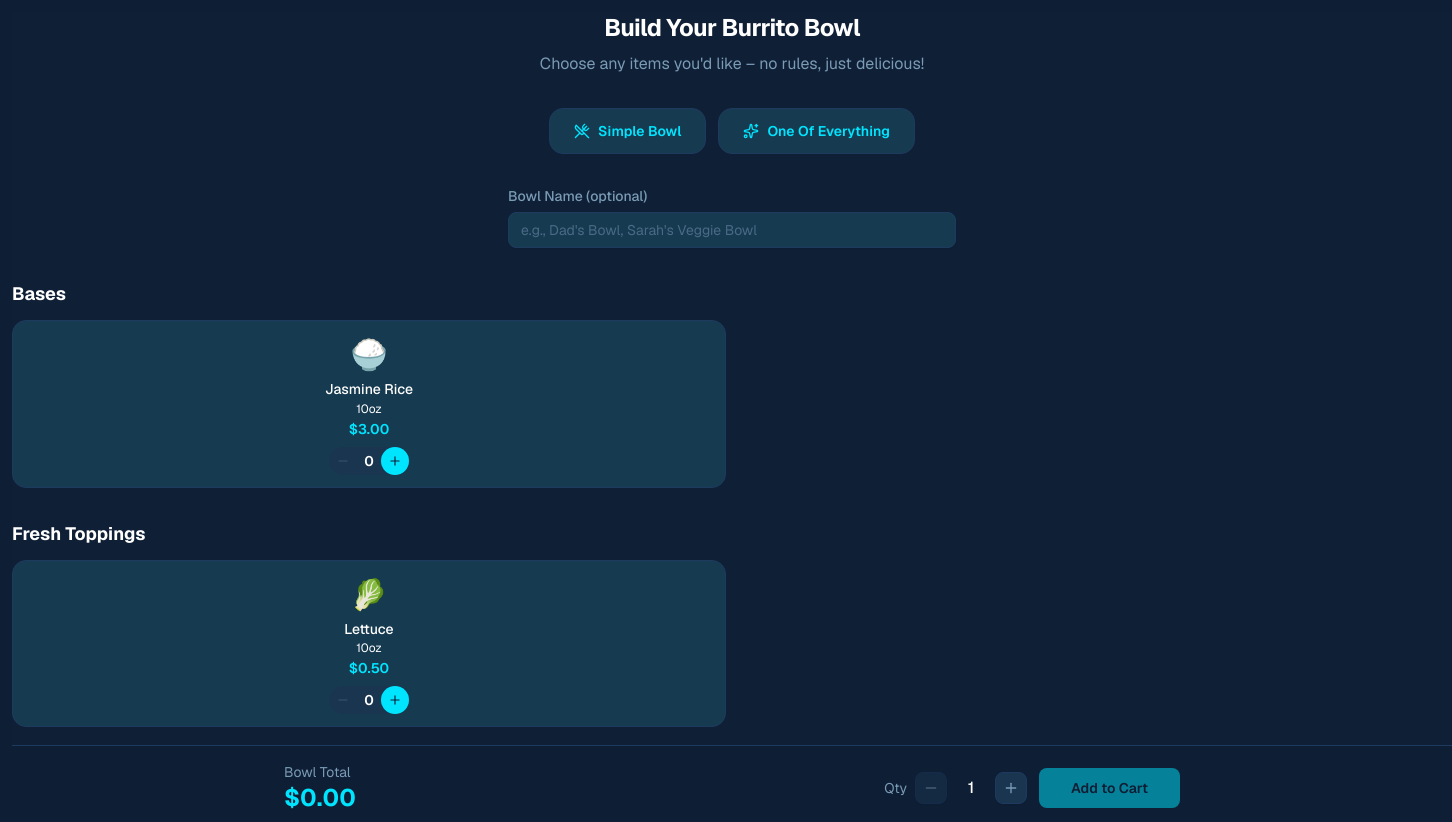
Test case: BowlBuilder › shows estimated total with tax in the sticky footer
// Select rice ($3.00)
Click the text "Jasmine Rice": [369, 390] box [325, 381, 413, 398]
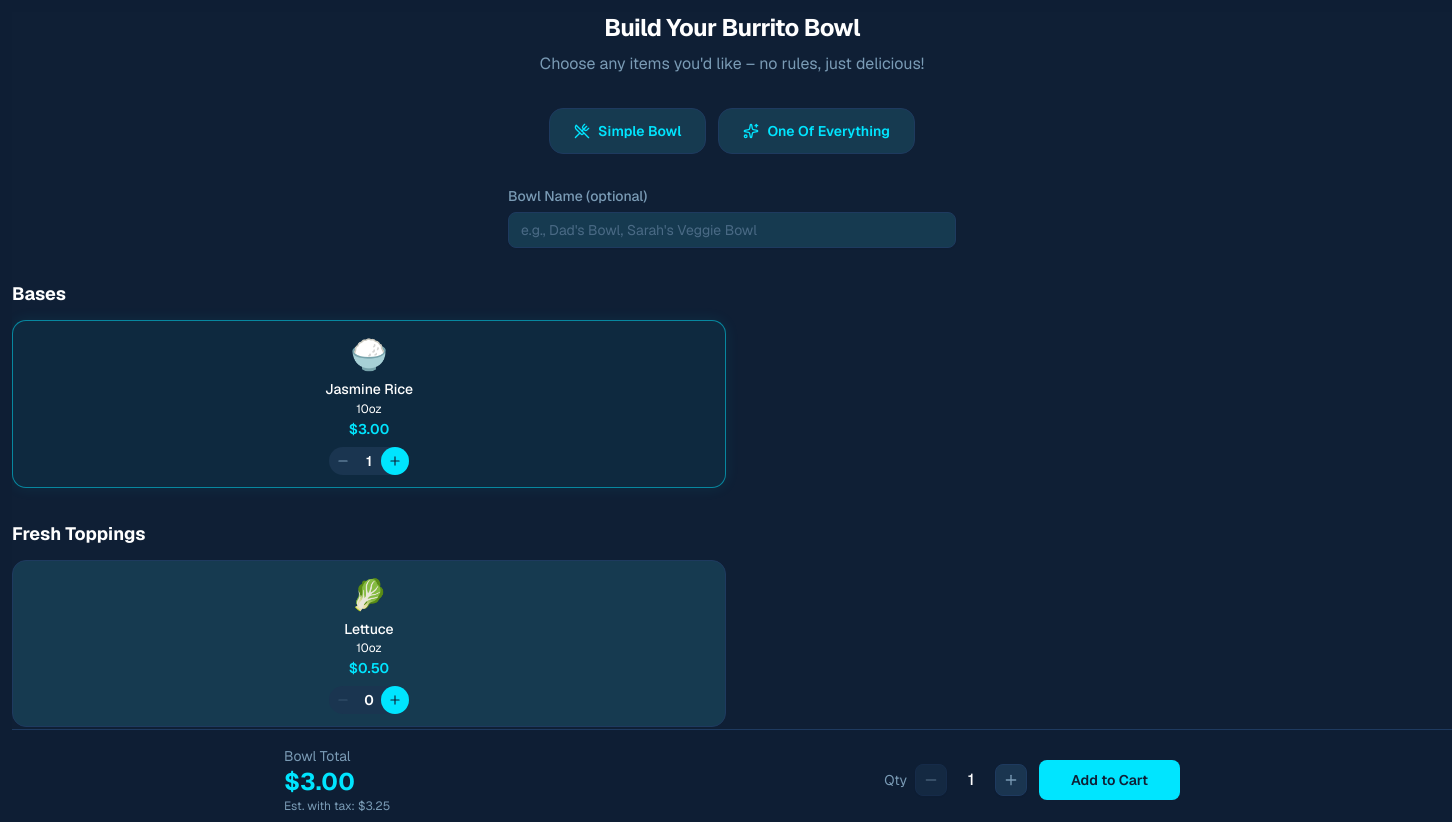
Expected: the text "Est. with tax: $3.25" is shown, [284, 798, 390, 814]
